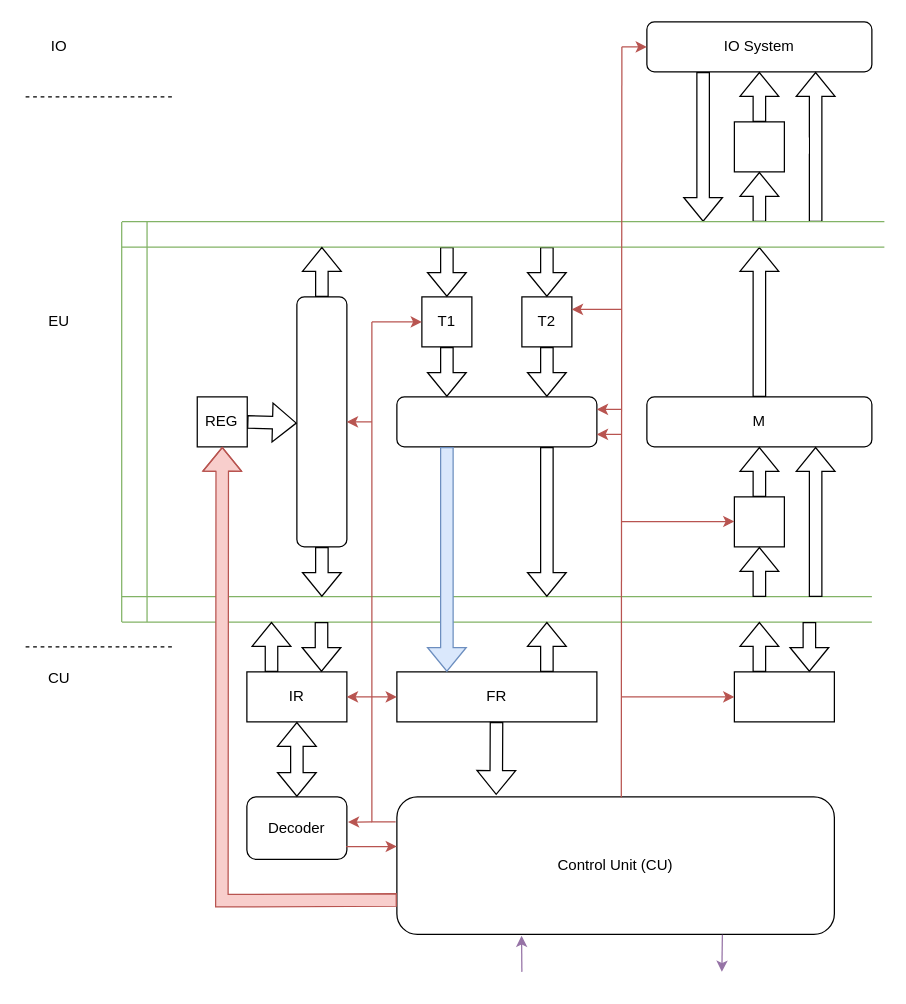
Some shapes in this 906 by 1004 pixel diagram are drawn without their labels. Each missing label, with the box of its shape:
ALU: (396, 396, 597, 447)
GR RF: (296, 296, 347, 547)
IOA: (733, 121, 784, 172)
MA: (733, 496, 784, 547)
PC: (733, 671, 834, 722)
